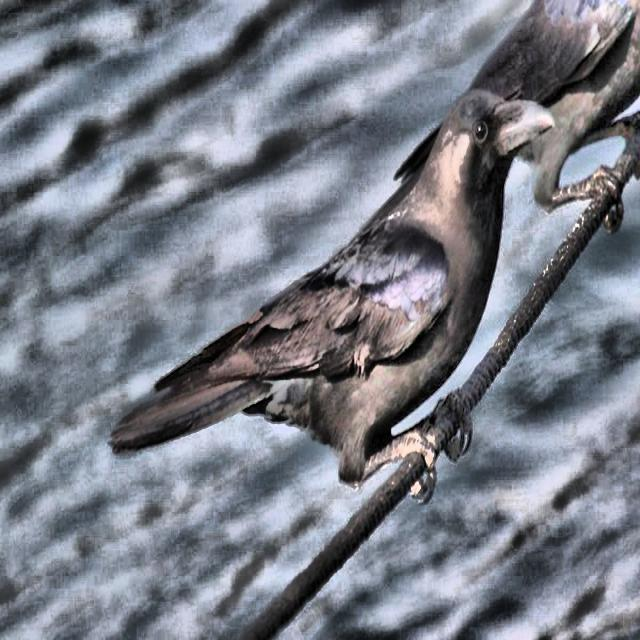crow: (105, 72, 552, 530)
